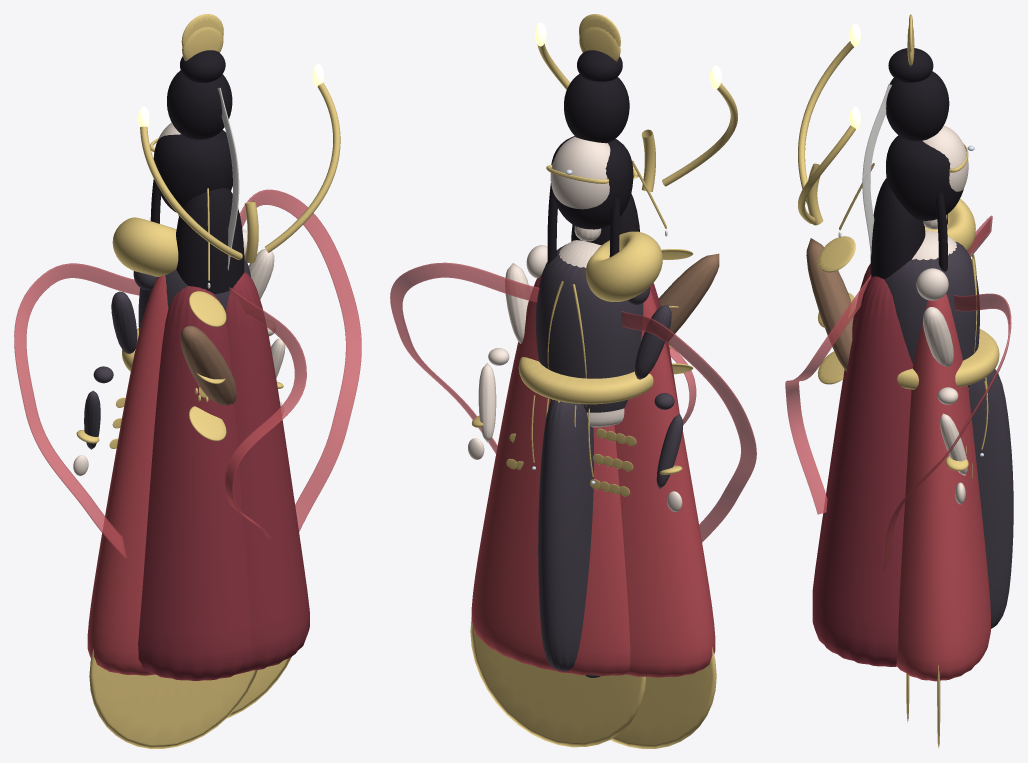
File: xianxia-archer.glb
3 renders of one model, left to right at view 1: azimuth 30°, elevation 25°; view 2: azimuth 150°, elevation 25°; view 3: azimuth 270°, elevation 25°, orthographic. The views are drawn at different scales.
Parts seen in each view (by area): view 1: RobeBack_L.001, RobeBack_R.001, RobePanel_L.001, RobeHem_L.001, SashR.001, SashL.001, HairMass.001, Scalp.001, HairCrown.001, SashBack.001, Pauldron_L.001, Quiver.001 (+14 smaller); view 2: RobePanel_R.001, RobePanel_L.001, Tabard.001, RobeHem_R.001, Tunic.001, RobeHem_L.001, SashL.001, Pauldron_L.001, SashR.001, HairCrown.001, Belt.001, Head.001 (+13 smaller); view 3: RobeBack_R.001, RobePanel_R.001, Tabard.001, Tunic.001, Scalp.001, HairMass.001, HairCrown.001, SashBack.001, Quiver.001, SashR.001, Belt.001, Head.001 (+15 smaller).
Part boxes in pixels (x1,y1,x2,y2): RobeBack_L.001: (138,286,251,680); RobeBack_R.001: (225,272,309,671); RobePanel_L.001: (87,275,168,675); RobeHem_L.001: (89,648,257,748); SashR.001: (240,189,361,531); SashL.001: (14,263,140,559); HairMass.001: (176,188,244,293); Scalp.001: (153,129,232,212); HairCrown.001: (167,70,232,139); SashBack.001: (224,287,306,540); Pauldron_L.001: (112,217,178,276); Quiver.001: (180,325,236,405); RobePanel_R.001: (471,274,630,676); RobePanel_L.001: (614,290,715,677); Tabard.001: (538,399,593,671); RobeHem_R.001: (470,617,645,747); Tunic.001: (535,244,643,412); RobeHem_L.001: (610,647,716,748); SashL.001: (621,311,756,542); Pauldron_L.001: (586,231,662,301); SashR.001: (390,262,539,453); HairCrown.001: (564,74,629,143); Belt.001: (518,357,653,404); Head.001: (550,136,610,209); RobeBack_R.001: (812,276,912,666); RobePanel_R.001: (896,293,990,681); Tabard.001: (968,369,1013,628); Tunic.001: (870,242,979,387); Scalp.001: (886,135,963,220); HairMass.001: (870,178,925,278); HairCrown.001: (886,71,949,141); SashBack.001: (785,274,871,514); Quiver.001: (806,238,854,371); SashR.001: (881,293,1011,572); Belt.001: (897,329,999,389); Head.001: (922,125,968,191).
Bounding box in the file's own units: 1.25 × 2.54 × 0.7396.
